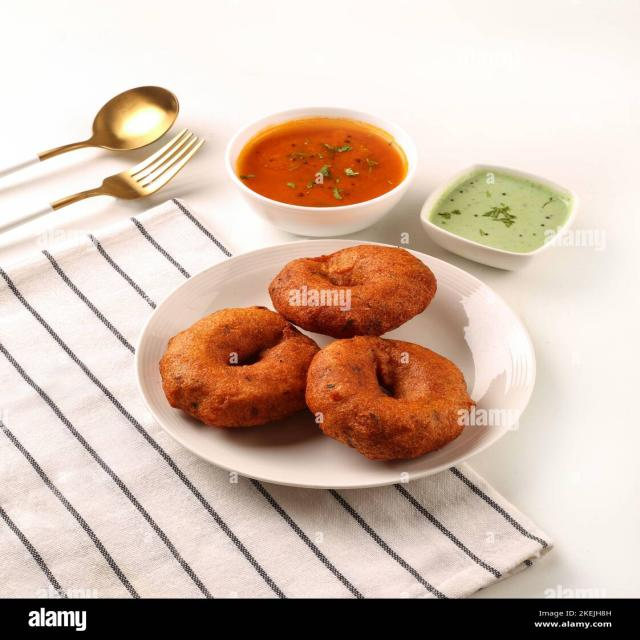MEDU VADA: (306, 336, 474, 460), (159, 306, 319, 426), (269, 244, 436, 338)
